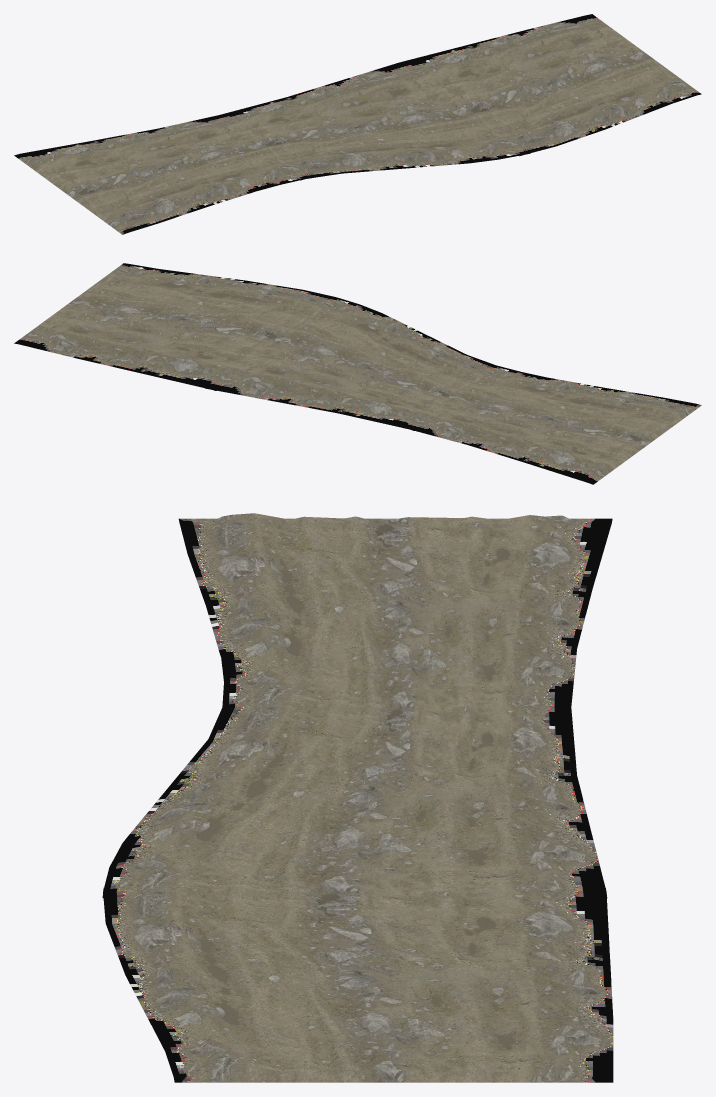
Rendered from trail_path_2100.glb.
3 views of the same model, one above another, from view 1: azimuth 30°, elevation 25°; view 2: azimuth 150°, elevation 25°; view 3: azimuth 270°, elevation 25° (orthographic). The views are drawn at different scales.
Visible parts, largest first — view 1: trail_path_2100; view 2: trail_path_2100; view 3: trail_path_2100.
Part boxes in pixels (bbox=[...]): trail_path_2100: bbox=[14, 14, 701, 234]; trail_path_2100: bbox=[14, 263, 701, 484]; trail_path_2100: bbox=[102, 513, 613, 1082].
Size of the model in its own units: 21.41 by 0.2888 by 8.18.
1 material, 1 textured.
